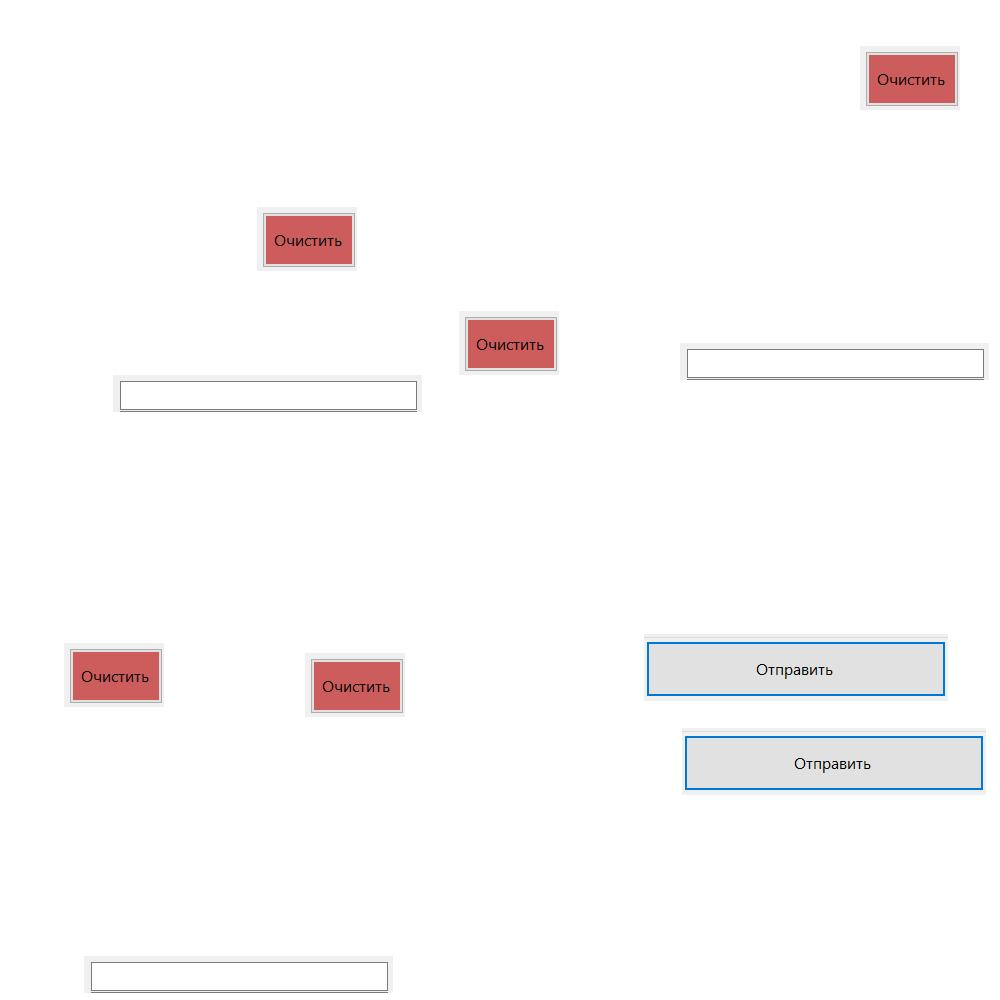Button: (644, 634, 948, 701), (682, 728, 986, 795), (257, 207, 357, 271), (305, 653, 405, 717), (860, 46, 960, 110), (64, 643, 164, 707), (459, 311, 559, 375)
EditText-: (680, 343, 989, 380), (113, 375, 422, 412), (84, 956, 393, 993)
